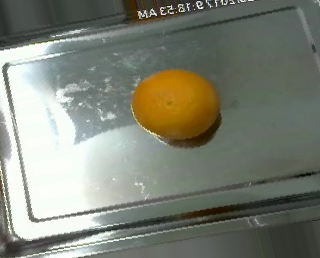Orange: (130, 68, 220, 139)
